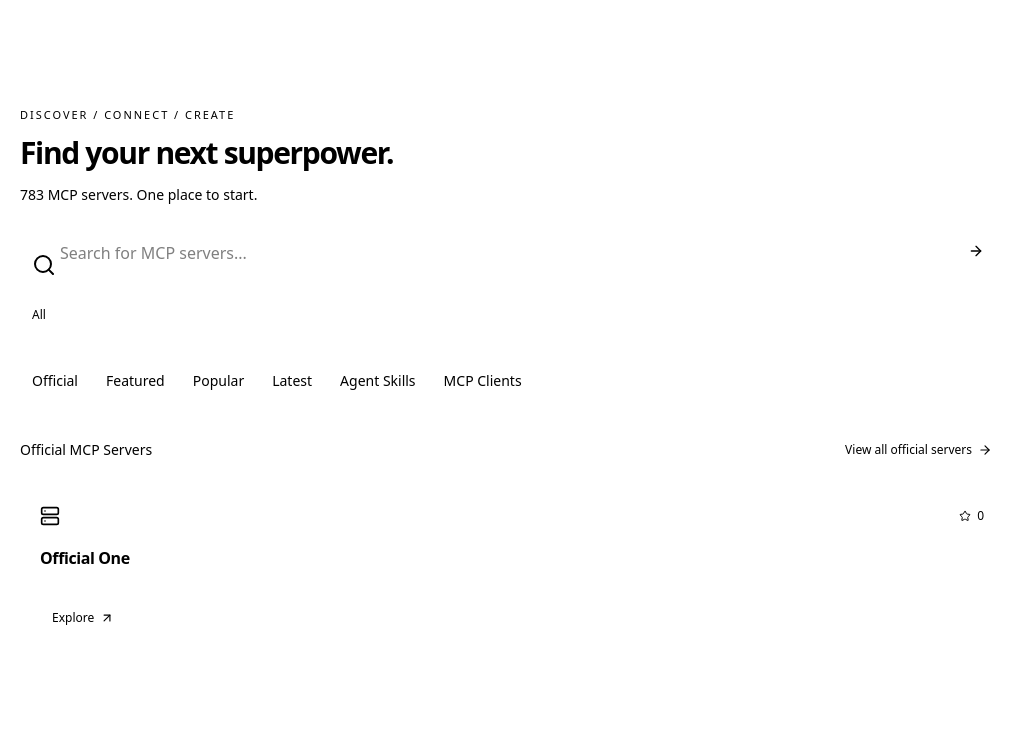
Test case: HomeView › switches collections while preserving public resource links
The image size is (1024, 751).
(page scrolled)
Click the tab "Official".
click(55, 384)  # box [20, 362, 90, 406]
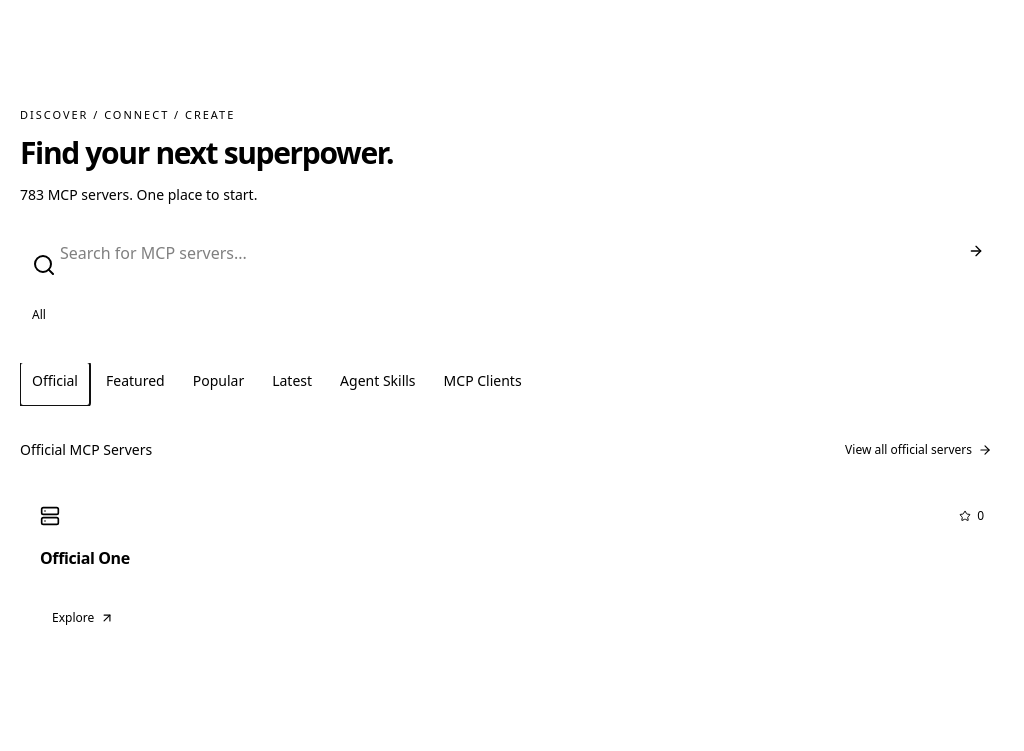
Expected: the heading "Official One" is shown, [40, 547, 130, 569]
Click the tab "Featured".
click(135, 384)  # box [94, 362, 177, 406]
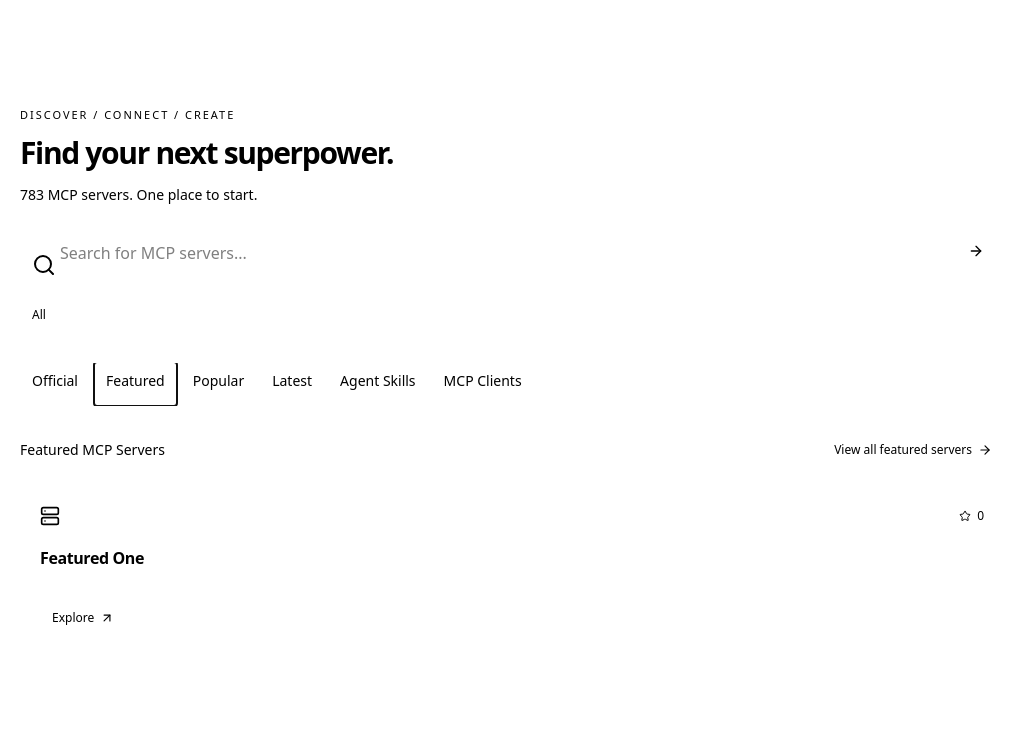
Expected: the heading "Featured One" is shown, [40, 547, 144, 569]
Click the tab "Popular".
click(218, 384)  # box [181, 362, 256, 406]
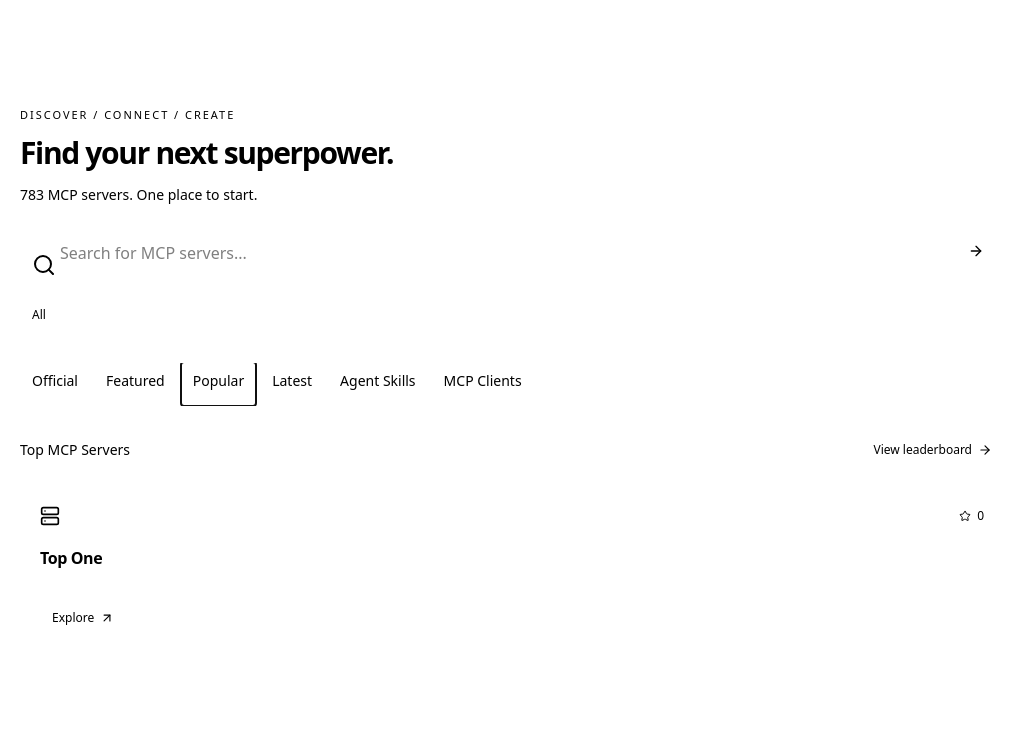
Expected: the heading "Top One" is shown, [40, 547, 102, 569]
Click the tab "Latest".
click(292, 384)  # box [260, 362, 324, 406]
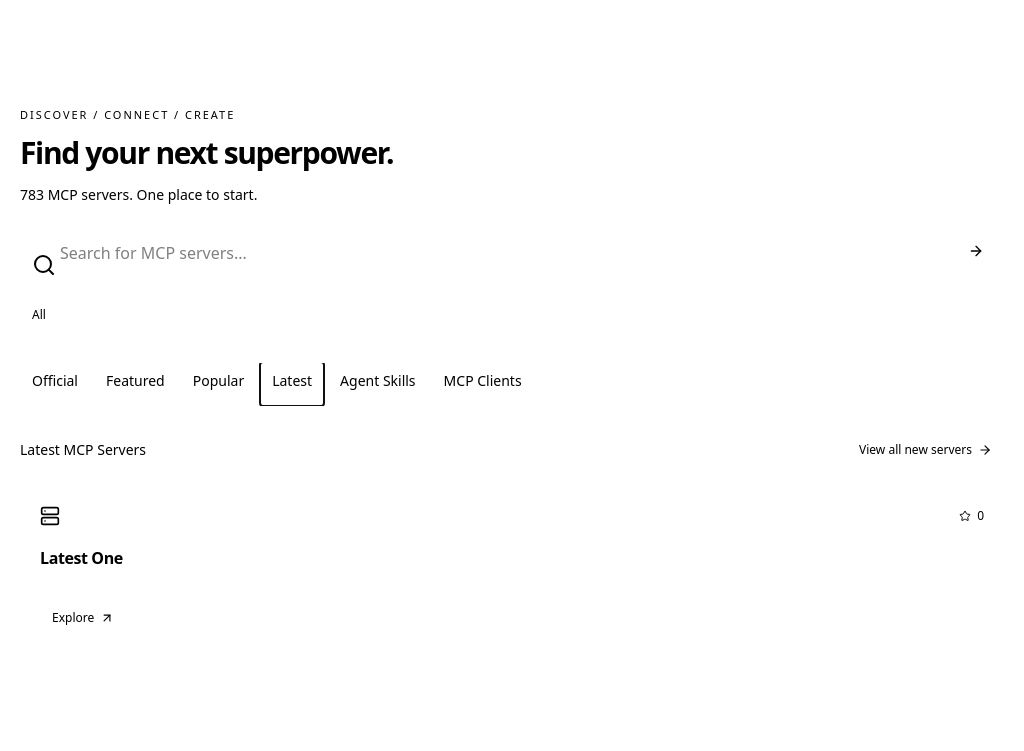
Expected: the heading "Latest One" is shown, [40, 547, 123, 569]
Click the tab "Agent Skills".
click(378, 384)  # box [328, 362, 428, 406]
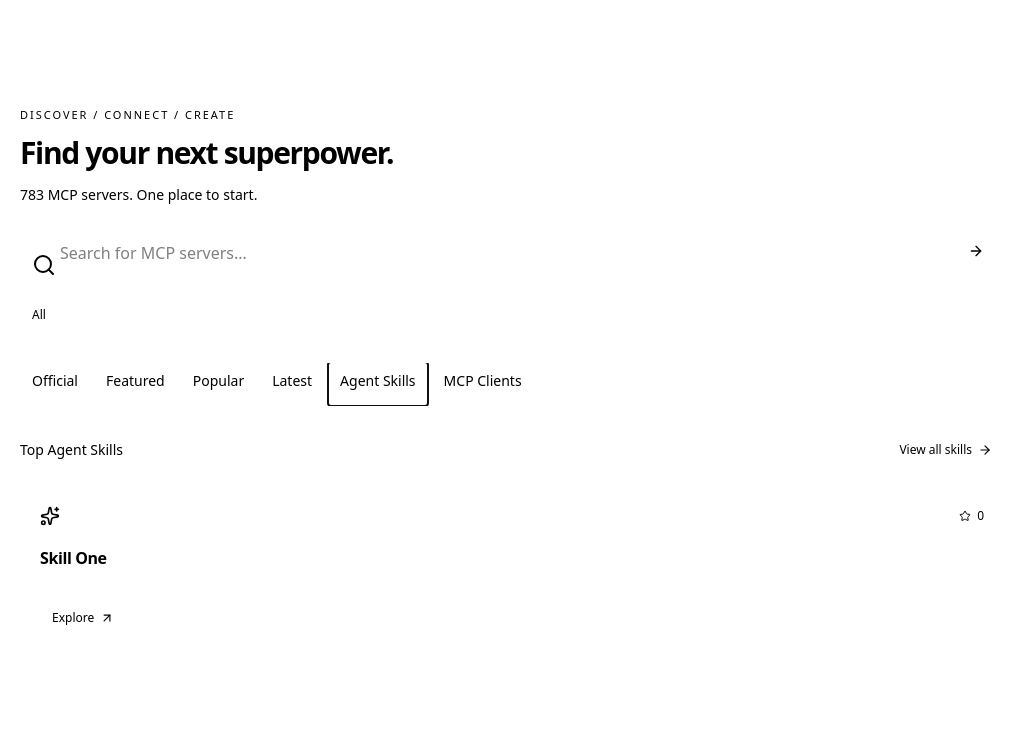
Expected: the heading "Skill One" is shown, [40, 547, 107, 569]
Click the tab "MCP Clients".
click(483, 384)  # box [432, 362, 534, 406]
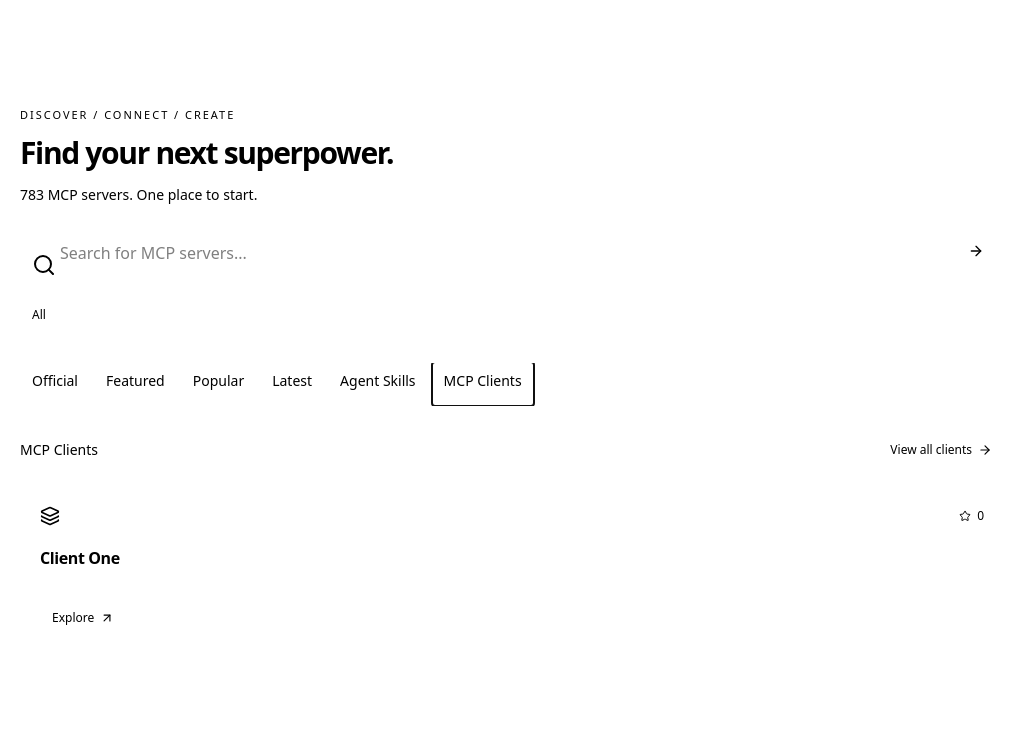
Expected: the heading "Official One" is not shown
Expected: the heading "Client One" is shown, [40, 547, 120, 569]
